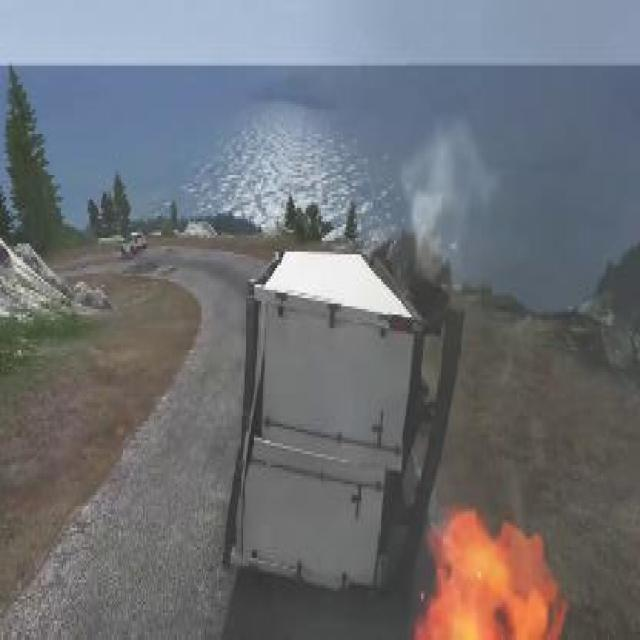accident: (210, 230, 461, 607)
